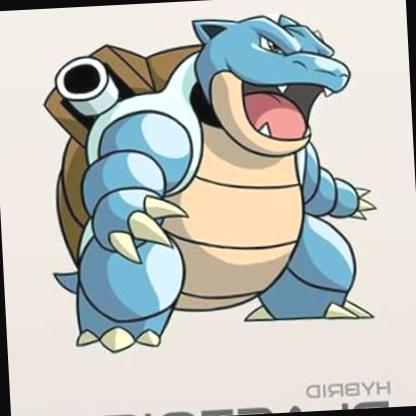Turtok: (0, 0, 415, 411)
